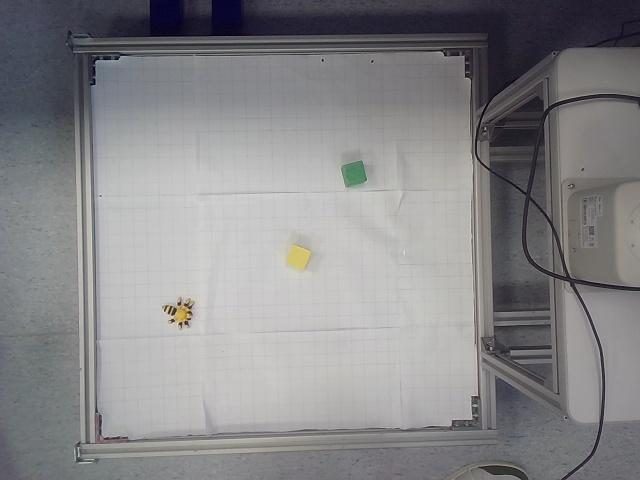frelon: (161, 296, 195, 331)
